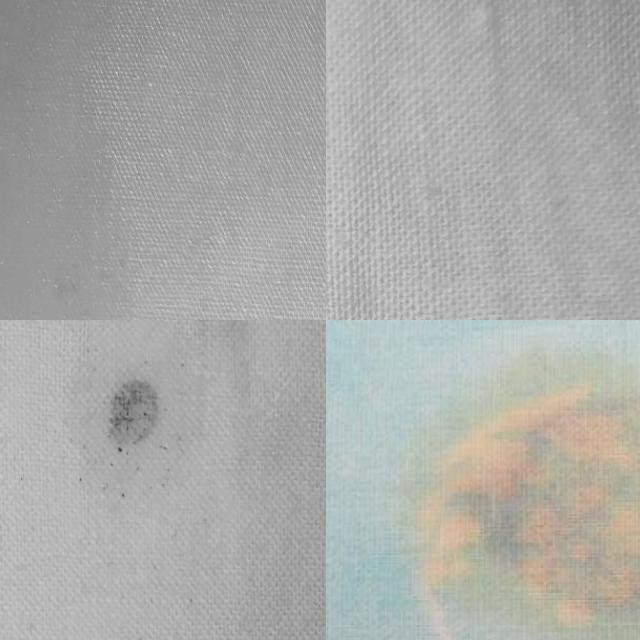Thread_other: (396, 356, 640, 640), (60, 350, 188, 488)
